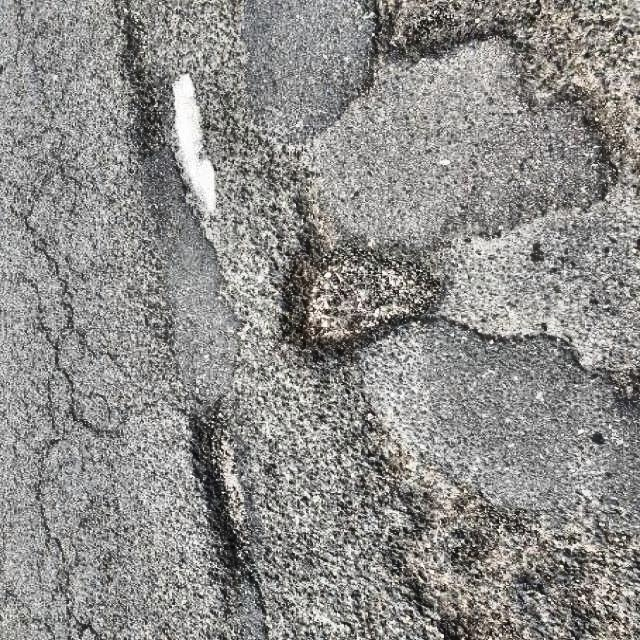Pothole: (274, 228, 448, 356), (170, 403, 290, 571), (362, 0, 546, 69)
